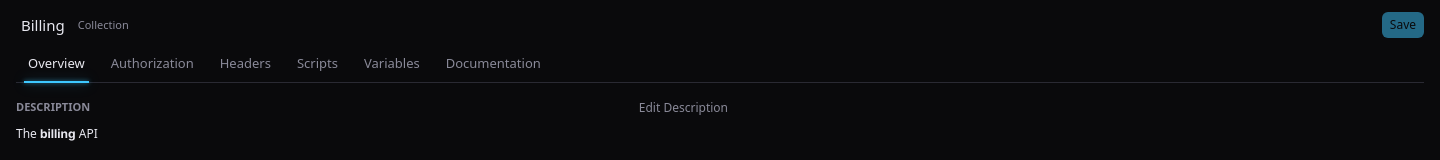
ItemTab › shows the collection variables in their own inner tab
This screenshot has width=1440, height=160.
Click the tab "Variables": (392,64) [352,46,432,82]
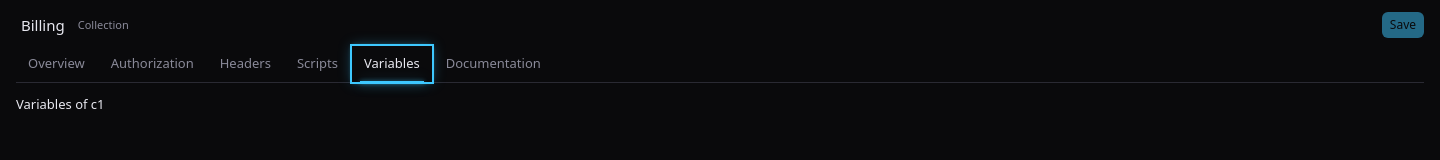
Now the panel "Variables" reads "Variables of c1", box [16,94,104,112]
